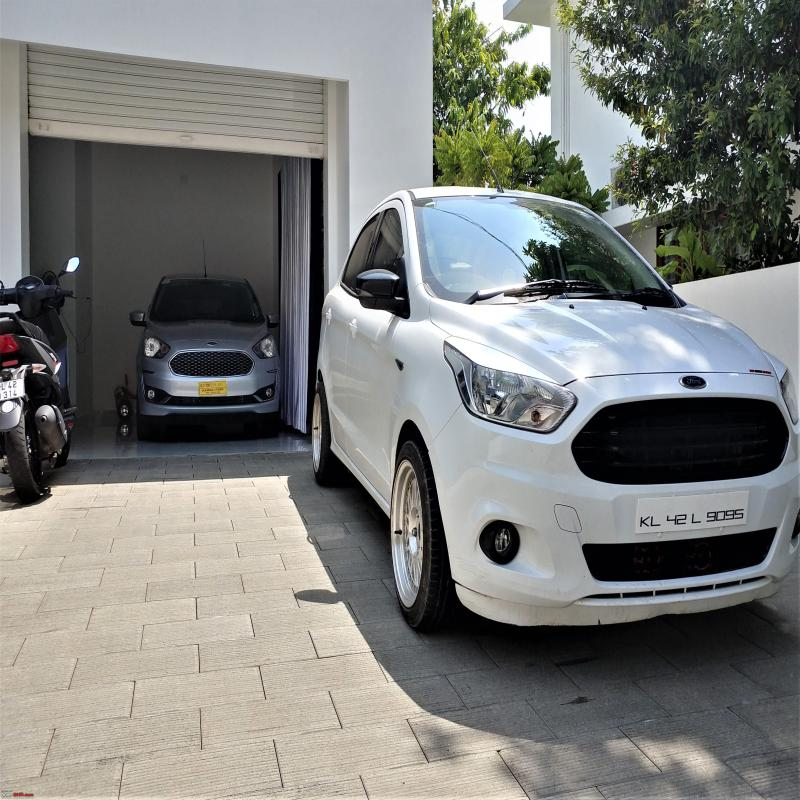car: (305, 185, 800, 698), (126, 244, 279, 447)
